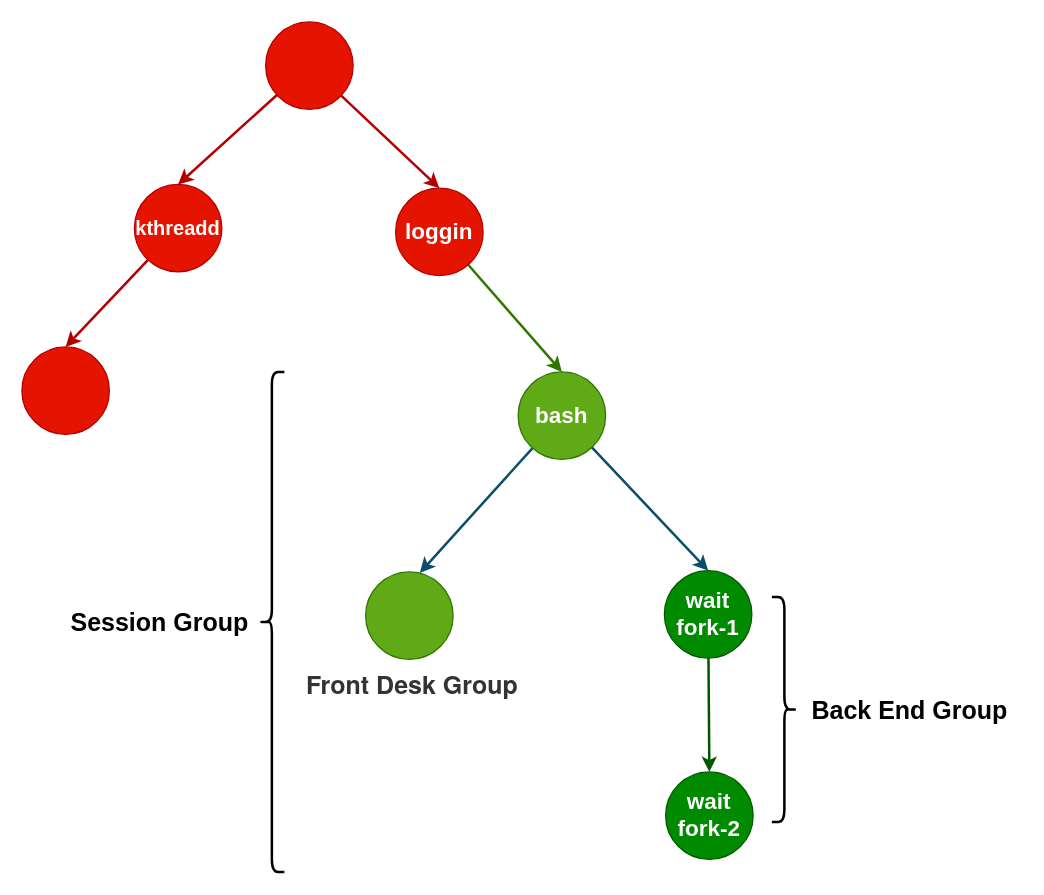
Some shapes in this 1044 by 895 pixel diagram are drawn without their labels. The centre of each missing label's shape, as x and y in pixels:
"Init" goes at point 308,65.
"kworker" goes at point 65,390.
"wget" goes at point 408,615.
